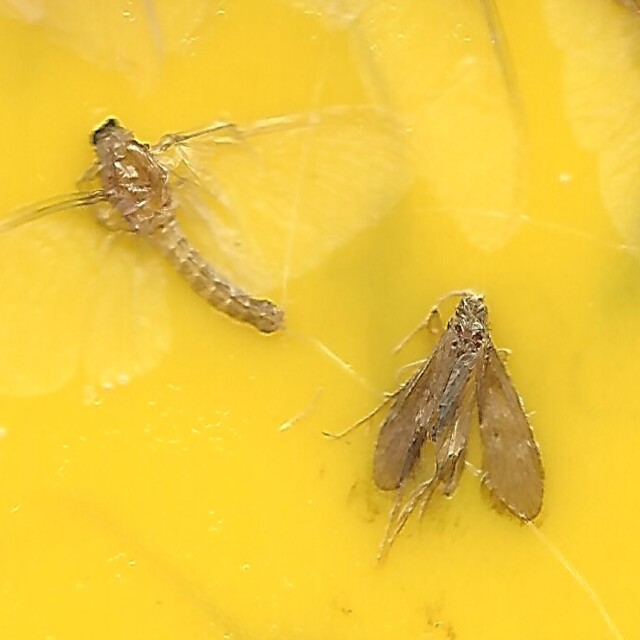Ephemeroptera: (92, 119, 283, 338)
Trichoptera: (367, 293, 548, 521)
